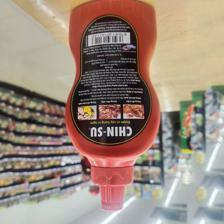Chinsu: (63, 1, 160, 212)
